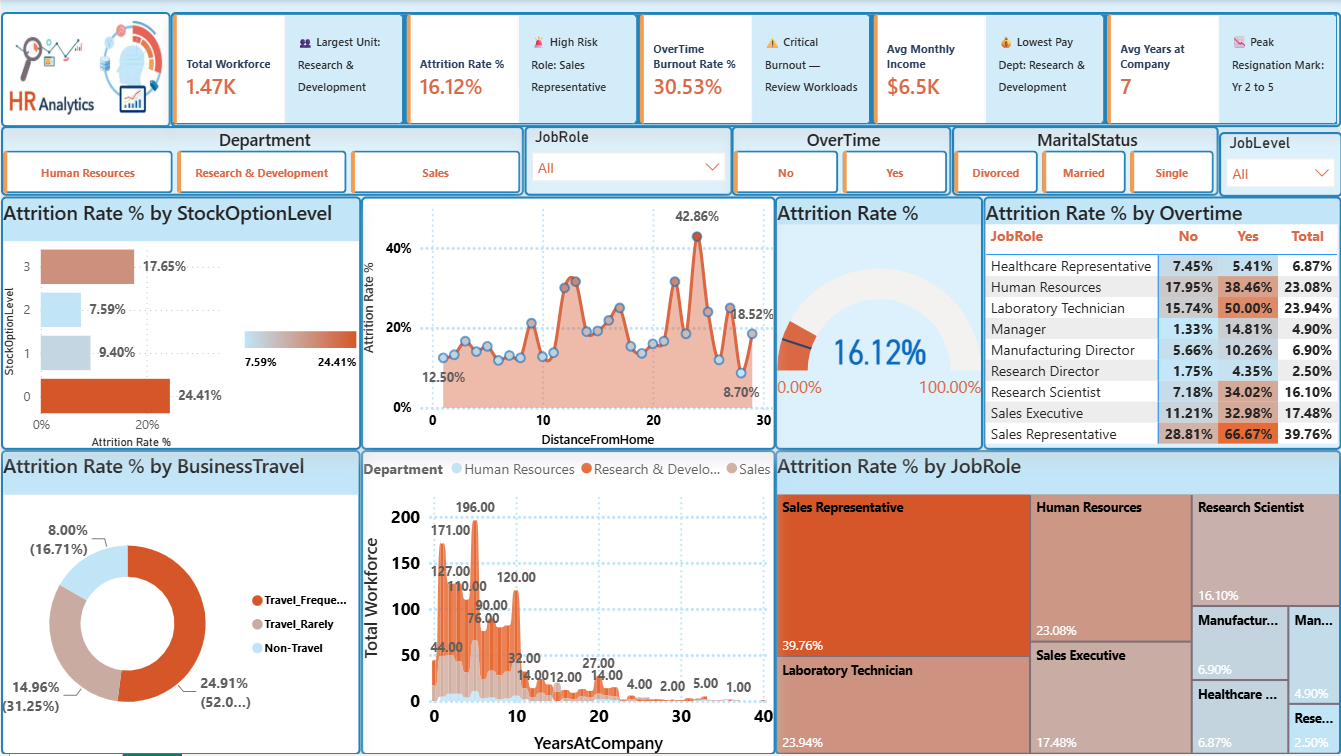

This screenshot's page, from the dashboard's own definition file:
{"tool":"powerbi","page":{"name":"Page 1","canvas":[1280,720],"ordinal":0},"visuals":[{"type":"image","box":[0,11.1,162.2,109.8],"z":0},{"type":"cardVisual","fields":{"Data":["WA_Fn-UseC_-HR-Employee-Attrition.Total Workforce","WA_Fn-UseC_-HR-Employee-Attrition.Attrition Rate %","WA_Fn-UseC_-HR-Employee-Attrition.OverTime Burnout Rate %","WA_Fn-UseC_-HR-Employee-Attrition.Avg Monthly Income","WA_Fn-UseC_-HR-Employee-Attrition.Avg Years at Company"]},"box":[162.2,11.1,1118.2,109.8],"z":1000},{"type":"advancedSlicerVisual","fields":{"Values":["WA_Fn-UseC_-HR-Employee-Attrition.Department"]},"box":[0,120.9,499.5,66.8],"z":2000},{"type":"slicer","fields":{"Values":["WA_Fn-UseC_-HR-Employee-Attrition.JobRole"]},"box":[499.5,120.9,198.8,66.8],"z":3000},{"type":"advancedSlicerVisual","fields":{"Values":["WA_Fn-UseC_-HR-Employee-Attrition.OverTime"]},"box":[698.3,120.9,210,66.8],"z":4000},{"type":"advancedSlicerVisual","fields":{"Values":["WA_Fn-UseC_-HR-Employee-Attrition.MaritalStatus"]},"box":[908.2,120.9,254.5,66.8],"z":5000},{"type":"slicer","fields":{"Values":["WA_Fn-UseC_-HR-Employee-Attrition.JobLevel"]},"box":[1162.7,125.7,117.7,62],"z":6000},{"type":"treemap","fields":{"Group":["WA_Fn-UseC_-HR-Employee-Attrition.JobRole"],"Values":["WA_Fn-UseC_-HR-Employee-Attrition.Attrition Rate %"]},"box":[739.6,429.5,540.8,291.1],"z":7000},{"type":"pivotTable","title":"Attrition Rate % by Overtime","fields":{"Rows":["WA_Fn-UseC_-HR-Employee-Attrition.JobRole"],"Columns":["WA_Fn-UseC_-HR-Employee-Attrition.OverTime"],"Values":["WA_Fn-UseC_-HR-Employee-Attrition.Attrition Rate %"]},"box":[938.5,187.7,342,241.8],"z":8000},{"type":"ribbonChart","fields":{"Category":["WA_Fn-UseC_-HR-Employee-Attrition.YearsAtCompany"],"Y":["WA_Fn-UseC_-HR-Employee-Attrition.Total Workforce"],"Series":["WA_Fn-UseC_-HR-Employee-Attrition.Department"]},"box":[343.6,429.5,396.1,291.1],"z":8001},{"type":"gauge","fields":{"Y":["WA_Fn-UseC_-HR-Employee-Attrition.Attrition Rate %"]},"box":[739.6,187.7,198.8,241.8],"z":8002},{"type":"areaChart","fields":{"Category":["WA_Fn-UseC_-HR-Employee-Attrition.DistanceFromHome"],"Y":["WA_Fn-UseC_-HR-Employee-Attrition.Attrition Rate %"]},"box":[343.6,187.7,396.1,241.8],"z":8003},{"type":"donutChart","fields":{"Category":["WA_Fn-UseC_-HR-Employee-Attrition.BusinessTravel"],"Y":["WA_Fn-UseC_-HR-Employee-Attrition.Attrition Rate %"]},"box":[0,429.5,343.6,291.1],"z":8004},{"type":"barChart","fields":{"Category":["WA_Fn-UseC_-HR-Employee-Attrition.StockOptionLevel"],"Y":["WA_Fn-UseC_-HR-Employee-Attrition.Attrition Rate %"]},"box":[0,188,344,242],"z":8005}]}

Visuals, with their boxes in screenshot pixels (x1, y1, x2, y2), scaled from the page's 1280x720 canvas onto the 1341x756 screenshot:
image: (left=0, top=12, right=170, bottom=127)
cardVisual - WA_Fn-UseC_-HR-Employee-Attrition.Total Workforce x WA_Fn-UseC_-HR-Employee-Attrition.Attrition Rate %: (left=170, top=12, right=1340, bottom=127)
advancedSlicerVisual - WA_Fn-UseC_-HR-Employee-Attrition.Department: (left=0, top=127, right=523, bottom=197)
slicer - WA_Fn-UseC_-HR-Employee-Attrition.JobRole: (left=523, top=127, right=732, bottom=197)
advancedSlicerVisual - WA_Fn-UseC_-HR-Employee-Attrition.OverTime: (left=732, top=127, right=952, bottom=197)
advancedSlicerVisual - WA_Fn-UseC_-HR-Employee-Attrition.MaritalStatus: (left=951, top=127, right=1218, bottom=197)
slicer - WA_Fn-UseC_-HR-Employee-Attrition.JobLevel: (left=1218, top=132, right=1340, bottom=197)
treemap - WA_Fn-UseC_-HR-Employee-Attrition.JobRole x WA_Fn-UseC_-HR-Employee-Attrition.Attrition Rate %: (left=775, top=451, right=1340, bottom=755)
"Attrition Rate % by Overtime" pivotTable: (left=983, top=197, right=1340, bottom=451)
ribbonChart - WA_Fn-UseC_-HR-Employee-Attrition.YearsAtCompany x WA_Fn-UseC_-HR-Employee-Attrition.Total Workforce: (left=360, top=451, right=775, bottom=755)
gauge - WA_Fn-UseC_-HR-Employee-Attrition.Attrition Rate %: (left=775, top=197, right=983, bottom=451)
areaChart - WA_Fn-UseC_-HR-Employee-Attrition.DistanceFromHome x WA_Fn-UseC_-HR-Employee-Attrition.Attrition Rate %: (left=360, top=197, right=775, bottom=451)
donutChart - WA_Fn-UseC_-HR-Employee-Attrition.BusinessTravel x WA_Fn-UseC_-HR-Employee-Attrition.Attrition Rate %: (left=0, top=451, right=360, bottom=755)
barChart - WA_Fn-UseC_-HR-Employee-Attrition.StockOptionLevel x WA_Fn-UseC_-HR-Employee-Attrition.Attrition Rate %: (left=0, top=197, right=360, bottom=452)
